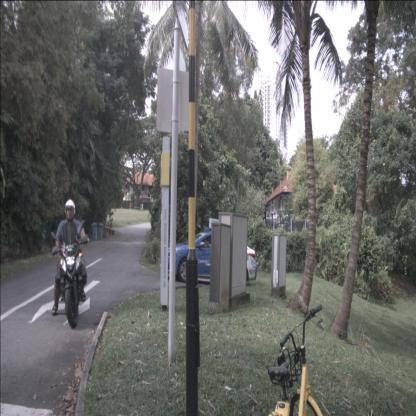vehicle-bicycle: (265, 302, 329, 416)
vehicle-car: (160, 229, 257, 286)
vehicle-motorcycle: (49, 197, 90, 330)
